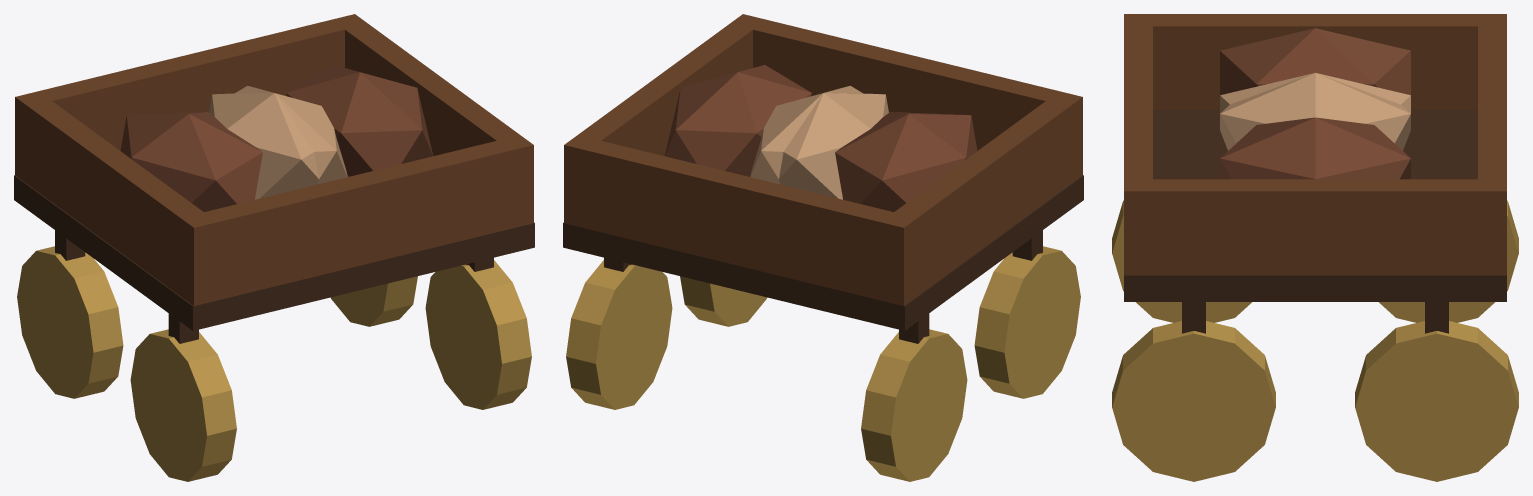
The model's file is Desert_OreCartTunnel_Simple.glb.
3 renders of one model, left to right at view 1: azimuth 30°, elevation 25°; view 2: azimuth 150°, elevation 25°; view 3: azimuth 270°, elevation 25°, orthographic. The views are drawn at different scales.
Visible parts, largest first — view 1: Desert_OreCartTunnel_Simple; view 2: Desert_OreCartTunnel_Simple; view 3: Desert_OreCartTunnel_Simple.
Boxes of the visible parts, x1,y1,x2,y2 form: Desert_OreCartTunnel_Simple: (14, 14, 534, 481); Desert_OreCartTunnel_Simple: (563, 14, 1083, 481); Desert_OreCartTunnel_Simple: (1112, 14, 1518, 481).
Bounding box in the file's own units: 3.2 × 2.71 × 3.08.
